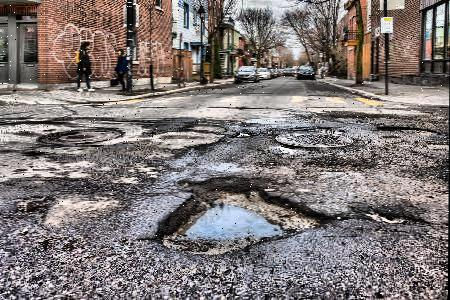pothole: (153, 174, 327, 257), (12, 193, 55, 219), (375, 123, 441, 138), (365, 208, 409, 225), (231, 129, 255, 139)
